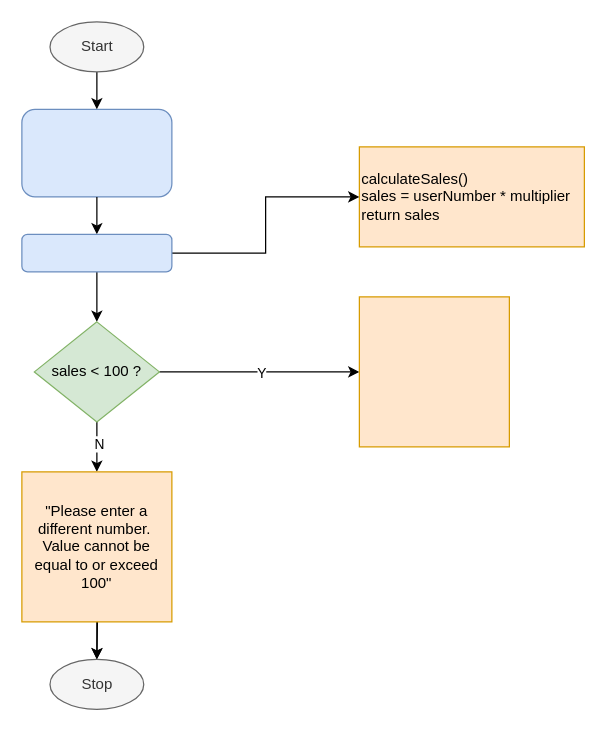
Some shapes in this 606 by 731 pixel diagram are drawn without their labels. The box of each missing label's shape, as (x1, y1, x2, y2) in pixels:
calculateSales(): (21, 233, 172, 272)
for loop i = 0; i < sales + 1; i++; record i in a database: (358, 296, 509, 447)
let userNumber let multiplier = 10 let sales: (21, 108, 172, 197)
